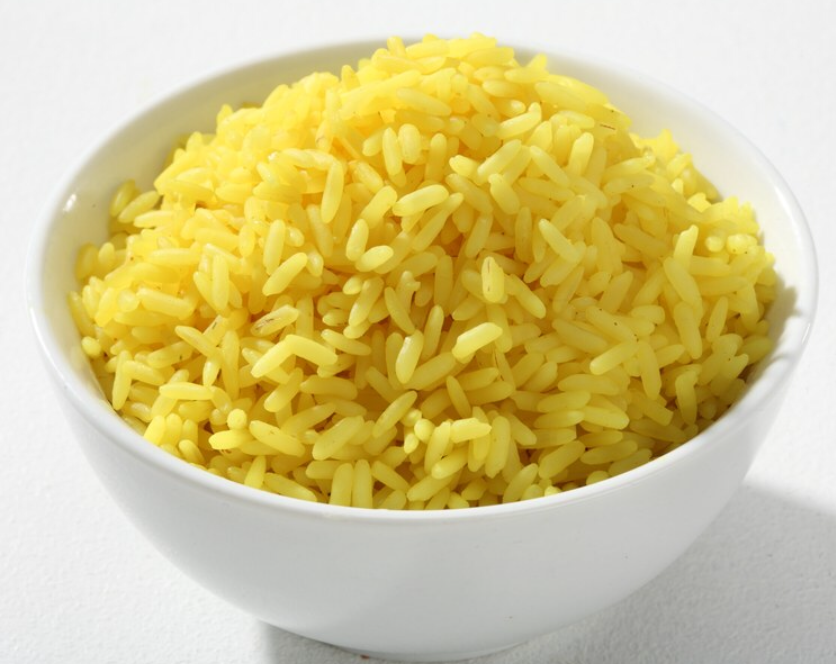plain rice: (78, 37, 753, 490)
